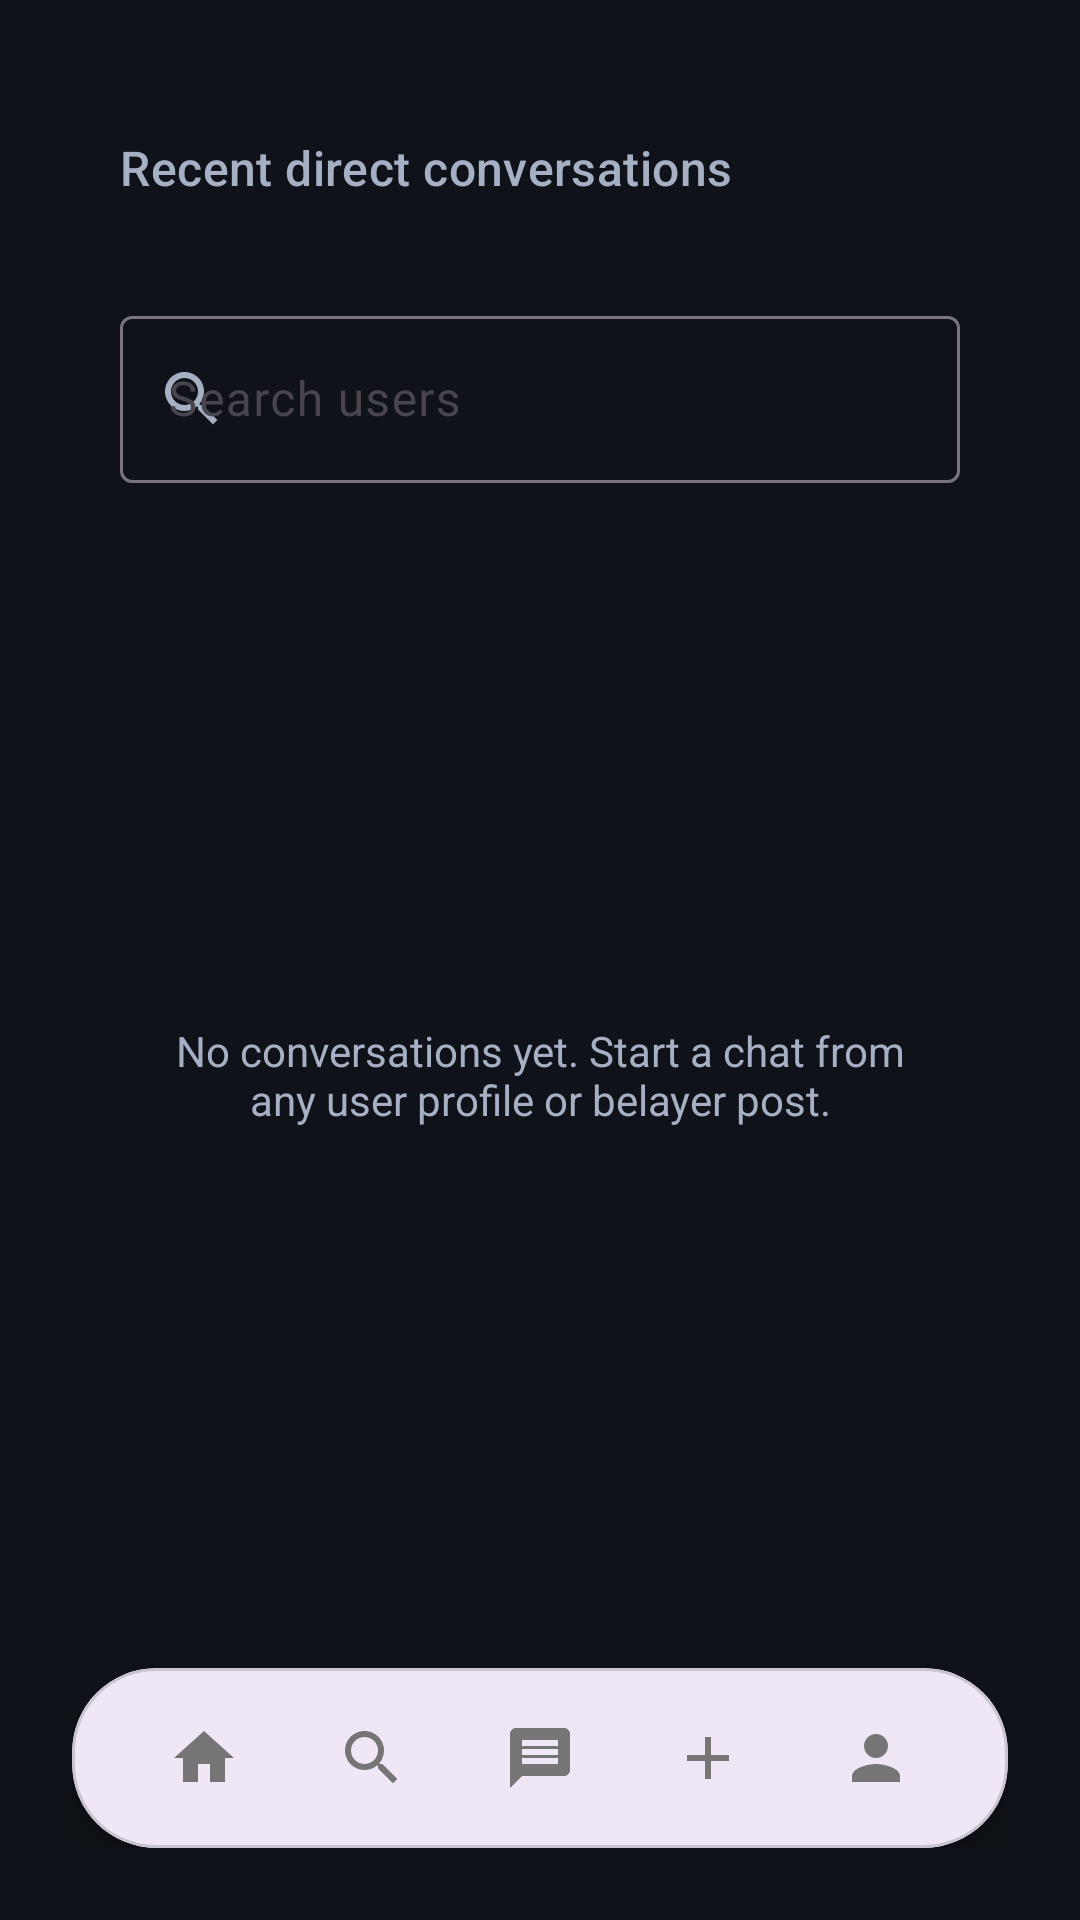

Screen size 1080px x 1920px. Icon name, then its box in pixels as (x1,y1,x2,y2):
Create post: (687,1737,729,1779)
Home: (174,1731,234,1782)
Messages: (510,1728,570,1788)
Open profile: (852,1734,900,1782)
Search: (345,1731,397,1783)
